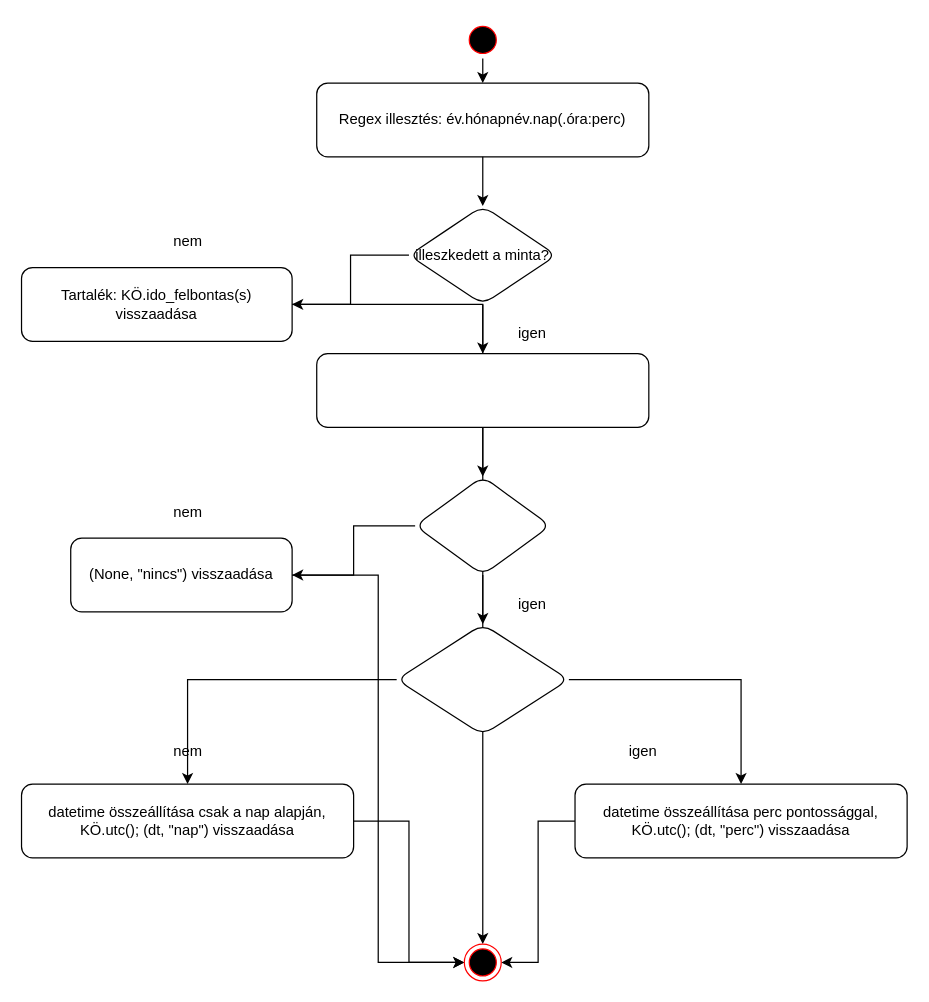
Image size: 929x1002. Some labels were removed from this diagram. Here are the shapes that lost their labels. From the top down, the box of each, then its label:
(315, 352, 649, 427): Hónap száma a hónapnév első 3 betűjéből (_HO szótár)
(414, 475, 550, 575): ismert a hónap?
(395, 623, 569, 735): volt óra:perc a mintában?
